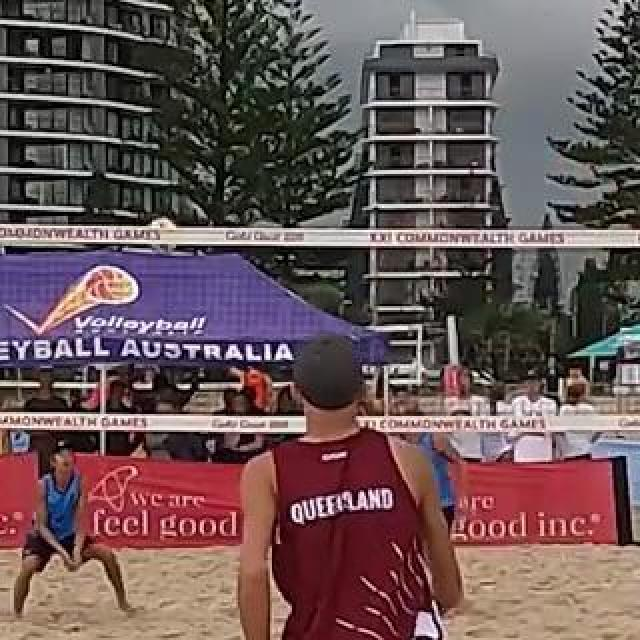volleyball: (147, 216, 179, 252)
